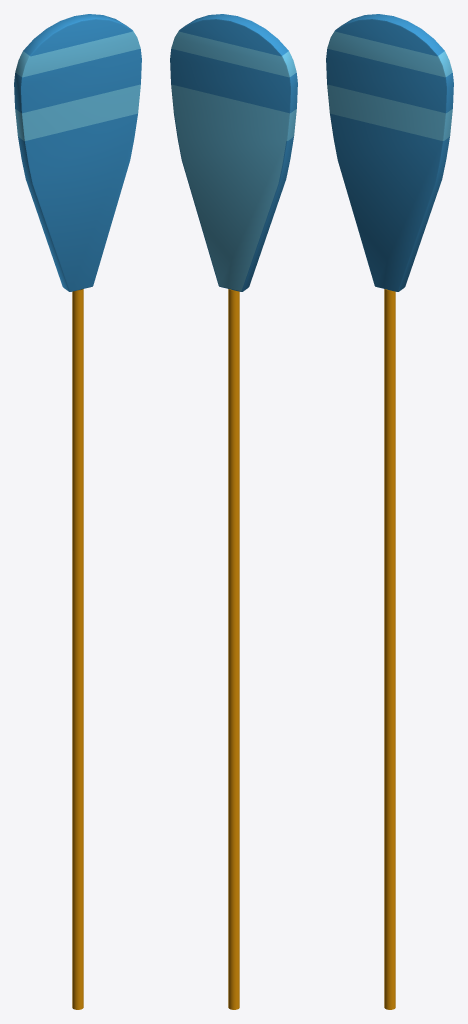
Rendered from SurfboardPaddle.fbx.
The picture shows the model from 3 angles, left to right: view 1: azimuth 30°, elevation 25°; view 2: azimuth 150°, elevation 25°; view 3: azimuth 330°, elevation 25°; orthographic projection.
Visible parts, largest first — view 1: SurfboardPaddle; view 2: SurfboardPaddle; view 3: SurfboardPaddle.
Part boxes in pixels (<box>): SurfboardPaddle: <box>14,14,141,1009</box>; SurfboardPaddle: <box>170,14,297,1009</box>; SurfboardPaddle: <box>326,14,453,1009</box>.
Size of the model in its own units: 19.83 by 154 by 2.05.
